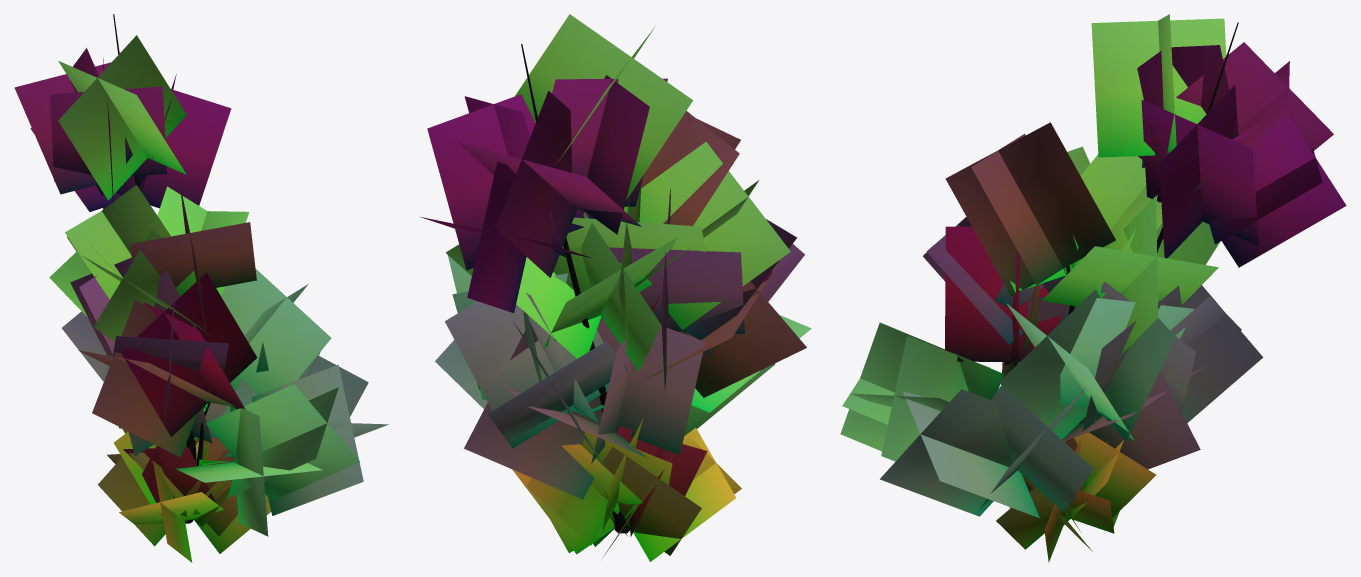
The model's file is URP_P12_Tree_12_LOD_3.fbx.
The picture shows the model from 3 angles, left to right: view 1: azimuth 30°, elevation 25°; view 2: azimuth 150°, elevation 25°; view 3: azimuth 270°, elevation 25°; orthographic projection. The views are drawn at different scales.
Visible parts, largest first — view 1: Tree_12_LOD_3; view 2: Tree_12_LOD_3; view 3: Tree_12_LOD_3.
Boxes of the visible parts, left/top/right/bottom form: Tree_12_LOD_3: left=14, top=14, right=388, bottom=562; Tree_12_LOD_3: left=419, top=14, right=811, bottom=561; Tree_12_LOD_3: left=840, top=14, right=1346, bottom=562.
Bounding box in the file's own units: 177 × 293 × 253.
